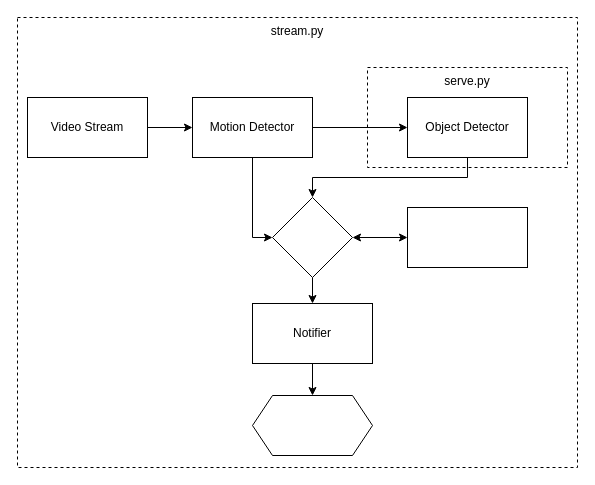
Some shapes in this 595 by 485 pixel diagram are drawn without their labels. The shapes that lost their labels are listed below. From the top down, each one's box as (x1, y1, x2, y2) in pixels, then its label:
(272, 196, 352, 278): Broker
(406, 206, 528, 268): Pattern Detector
(252, 394, 372, 456): HomeAssistant (mqtt, webhook)
